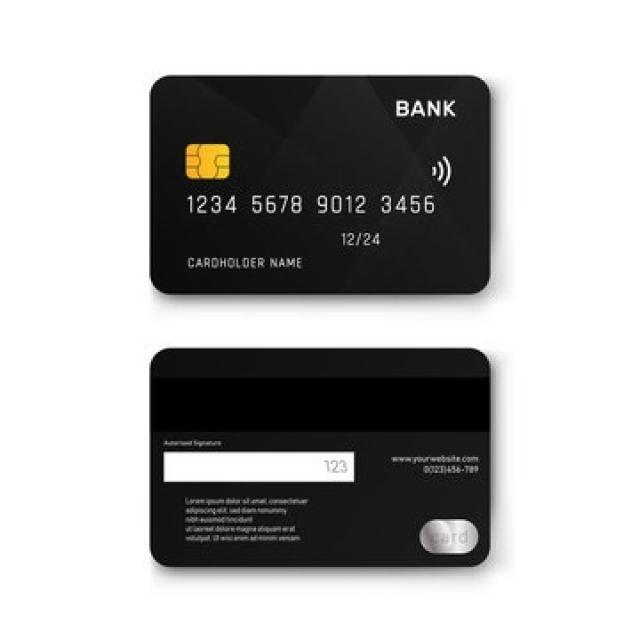payment_card: (148, 73, 491, 295), (148, 346, 491, 568)
